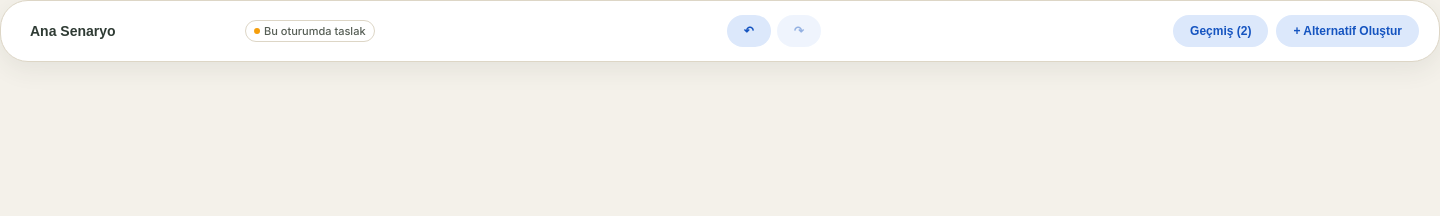
Test: StudioScenarioBar › Gecmis butonuna tiklandiginda son degisiklik listesi acilir
Click the button "Geçmiş (2)" at (1221, 31), box [1173, 15, 1268, 47]
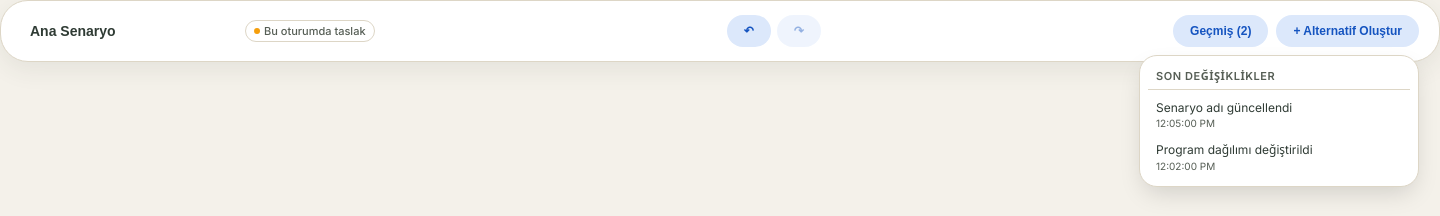
Expected: the text "Senaryo adı güncellendi" is shown, [1156, 100, 1292, 115]
Expected: the text "Program dağılımı değiştirildi" is shown, [1156, 142, 1313, 157]
